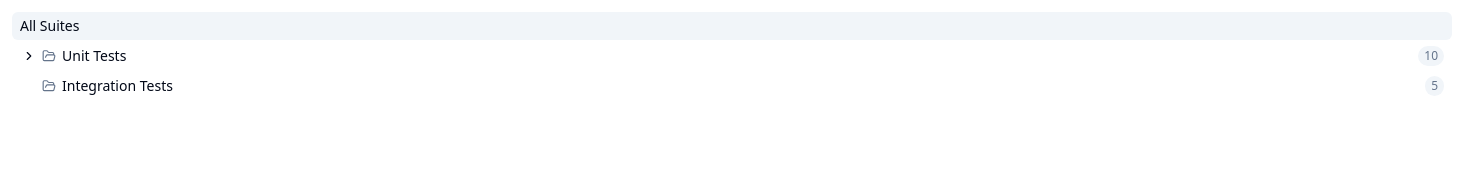
Test: SuiteTree › collapses children when chevron is clicked again
Click the button named "Expand ". click: {"x": 29, "y": 56}
box: [20,47,38,65]
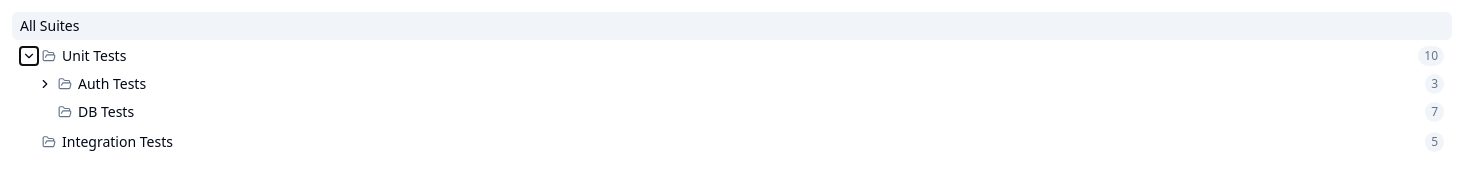
Result: the text "Auth Tests" is shown at [78,74,146,94]
Click the button named "Collapse ". click: {"x": 29, "y": 56}
box: [20,47,38,65]
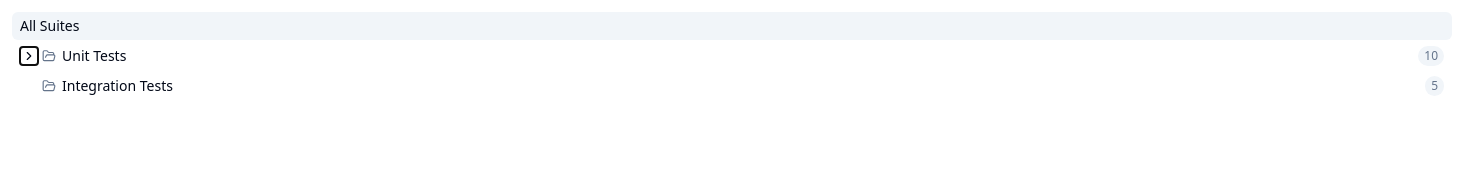
Result: the button "Auth Tests" is gone
